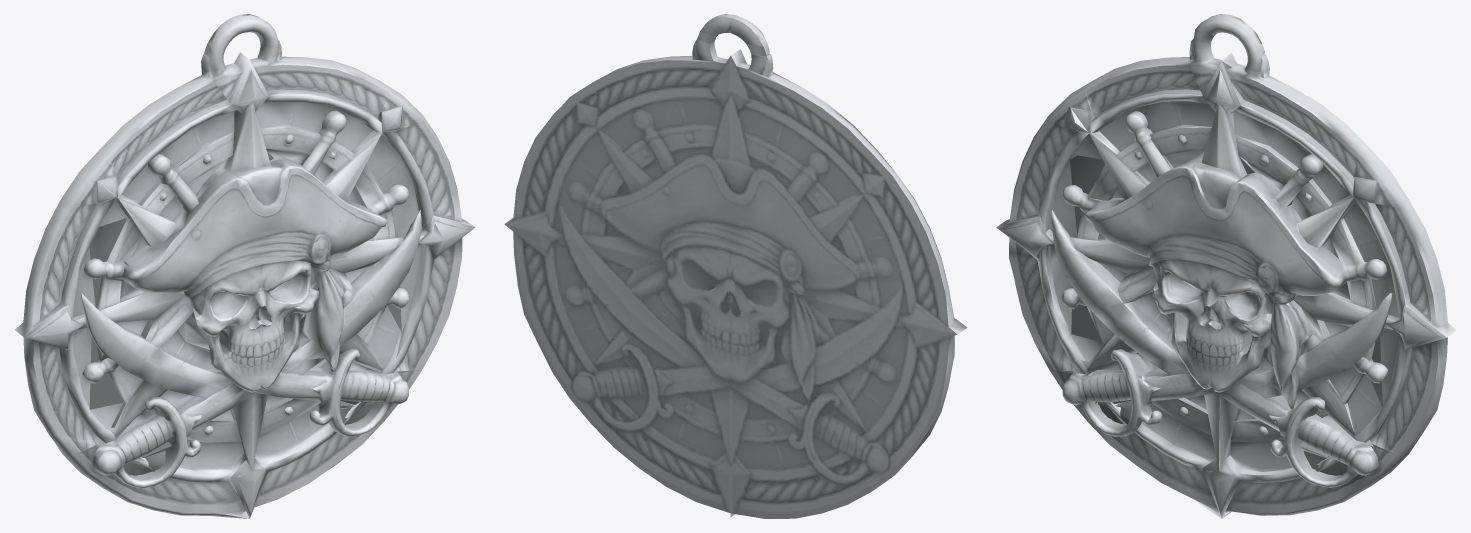
File: silver_korsan.glb
The picture shows the model from 3 angles, left to right: view 1: azimuth 30°, elevation 25°; view 2: azimuth 150°, elevation 25°; view 3: azimuth 330°, elevation 25°; orthographic projection.
Visible parts, largest first — view 1: silver_korsan_AO_candidate; view 2: silver_korsan_AO_candidate; view 3: silver_korsan_AO_candidate.
Part boxes in pixels (bbox=[...]): silver_korsan_AO_candidate: bbox=[15, 14, 475, 518]; silver_korsan_AO_candidate: bbox=[504, 14, 967, 518]; silver_korsan_AO_candidate: bbox=[996, 14, 1456, 518].
Bounding box in the file's own units: 0.9492 × 1 × 0.0898.
1 material, 1 textured.
